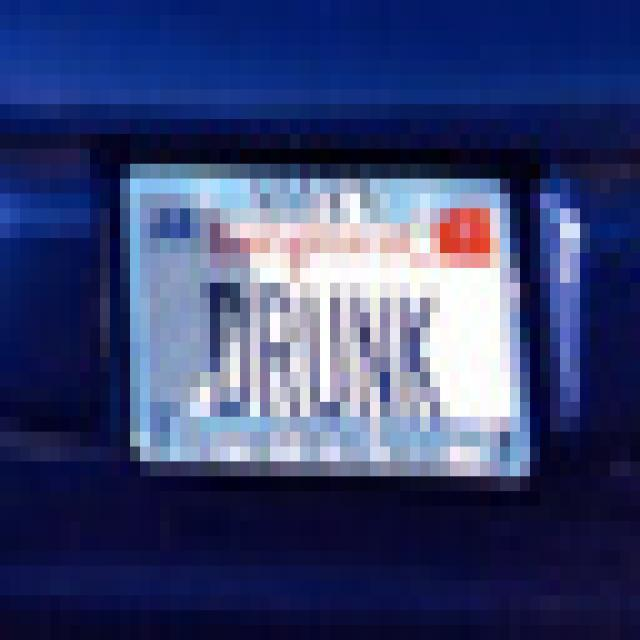D: (190, 246, 259, 440)
K: (390, 262, 446, 442)
N: (346, 266, 401, 446)
R: (250, 265, 302, 450)
U: (294, 272, 350, 428)
